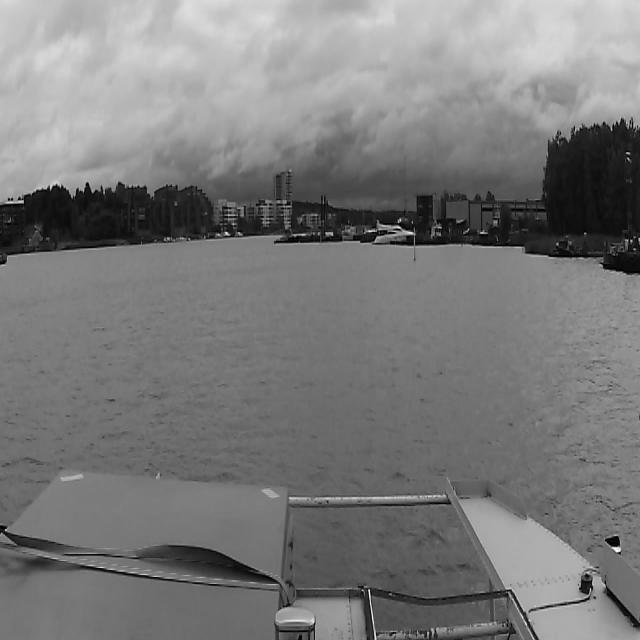buoy: (409, 220, 417, 263)
ship: (373, 220, 413, 246)
